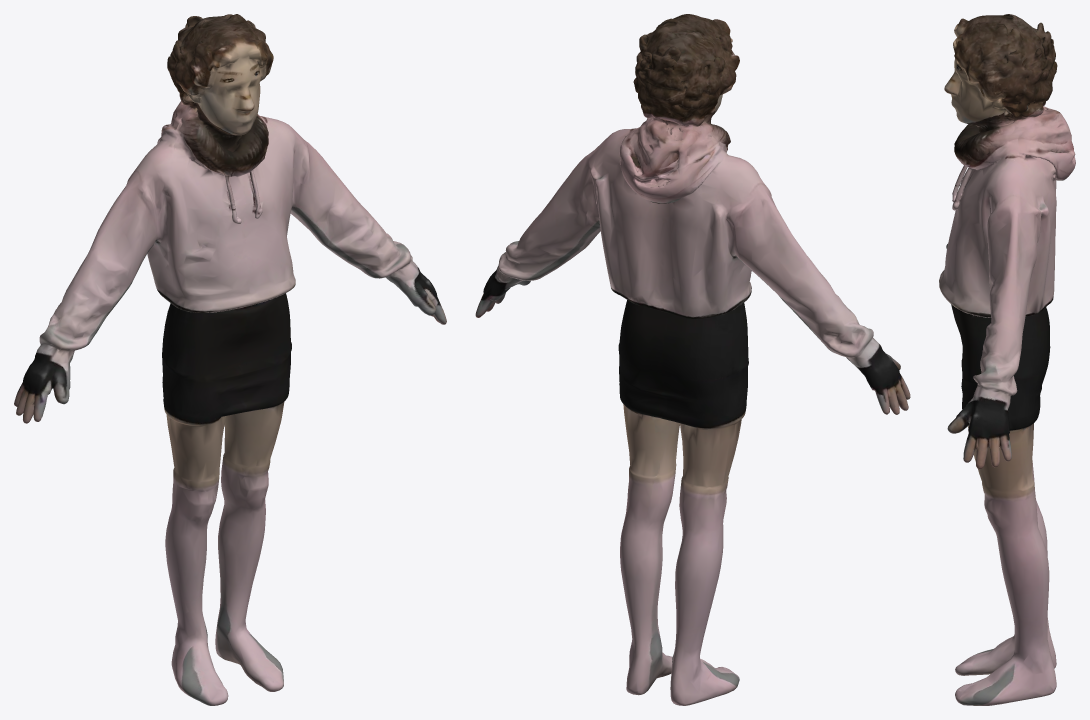
Rendered from rot.glb.
3 views of the same model, side by side, from view 1: azimuth 30°, elevation 25°; view 2: azimuth 150°, elevation 25°; view 3: azimuth 270°, elevation 25° (orthographic).
Parts seen in each view (by area): view 1: tripo_node_cef20fce-9cec-479c-ba12-c36e700b98c5; view 2: tripo_node_cef20fce-9cec-479c-ba12-c36e700b98c5; view 3: tripo_node_cef20fce-9cec-479c-ba12-c36e700b98c5.
Part boxes in pixels (left/top/right/bottom): tripo_node_cef20fce-9cec-479c-ba12-c36e700b98c5: left=14, top=14, right=446, bottom=705; tripo_node_cef20fce-9cec-479c-ba12-c36e700b98c5: left=475, top=14, right=910, bottom=705; tripo_node_cef20fce-9cec-479c-ba12-c36e700b98c5: left=939, top=14, right=1075, bottom=705.
Size of the model in its own units: 0.662 by 0.9999 by 0.1859.
Materials: 1 (1 with a texture image).
